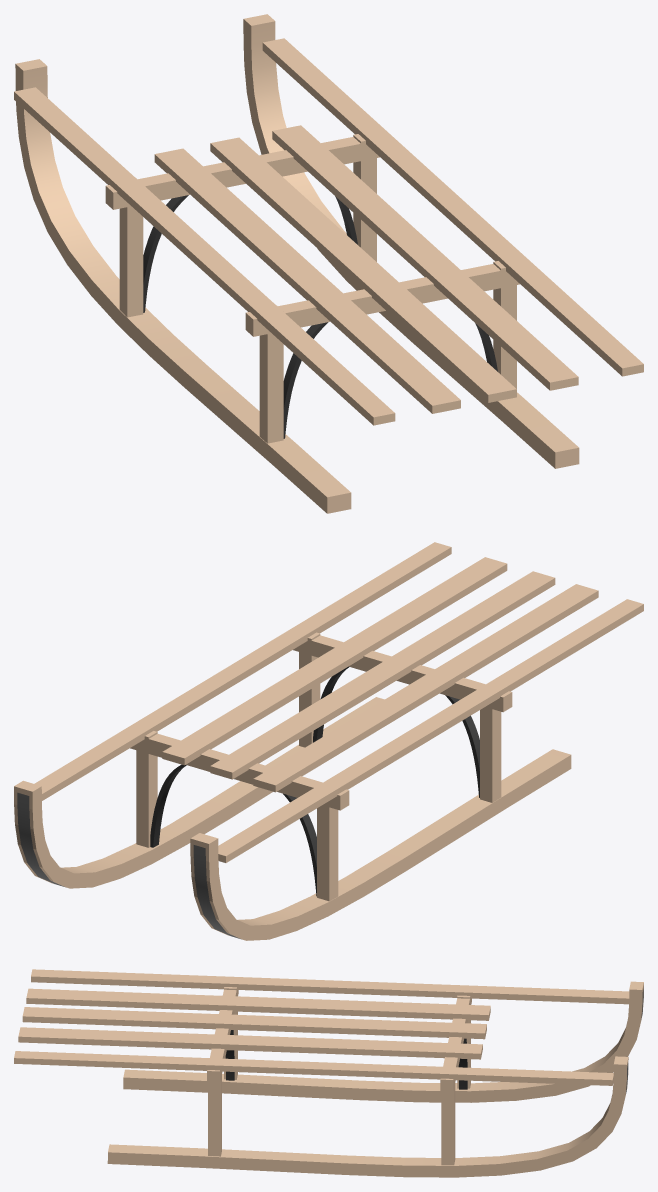
The picture shows the model from 3 angles, top to bottom: view 1: azimuth 30°, elevation 25°; view 2: azimuth 150°, elevation 25°; view 3: azimuth 270°, elevation 25°; orthographic projection. The views are drawn at different scales.
Visible parts, largest first — view 1: Box20186, Line005, Box20180, Box20182, Box20189, Box20188, Box20179, Box20187, Box20183, Box20193, Box20190; view 2: Box20186, Line005, Box20180, Box20182, Box20189, Box20179, Box20188, Box20187, Box20192, Box20183, Box20190, Box20193; view 3: Box20186, Line005, Box20180, Box20187, Box20183, Box20182, Box20189.
Boxes of the visible parts, x1,y1,x2,y2 form: Box20186: (154, 125, 578, 413); Line005: (15, 14, 579, 513); Box20180: (14, 38, 643, 425); Box20182: (245, 264, 519, 336); Box20189: (105, 137, 379, 209); Box20188: (119, 178, 143, 317); Box20179: (259, 305, 283, 443); Box20187: (353, 134, 376, 261); Box20183: (493, 261, 516, 388); Box20193: (143, 195, 188, 312); Box20190: (283, 322, 328, 438); Box20186: (162, 557, 598, 792); Line005: (14, 697, 571, 940); Box20180: (34, 542, 643, 862); Box20182: (293, 635, 512, 712); Box20189: (130, 733, 349, 810); Box20179: (480, 703, 501, 802); Box20188: (317, 802, 338, 901); Box20187: (136, 731, 157, 847); Box20192: (150, 764, 186, 847); Box20183: (299, 632, 320, 747); Box20190: (445, 695, 479, 797); Box20193: (283, 793, 316, 896); Box20186: (18, 988, 490, 1059); Line005: (107, 981, 643, 1177); Box20180: (14, 969, 629, 1085); Box20187: (441, 1080, 455, 1165); Box20183: (208, 1075, 221, 1156); Box20182: (207, 989, 238, 1083); Box20189: (440, 998, 471, 1092).
Bounding box in the file's own units: 13671 × 6937 × 32835.
